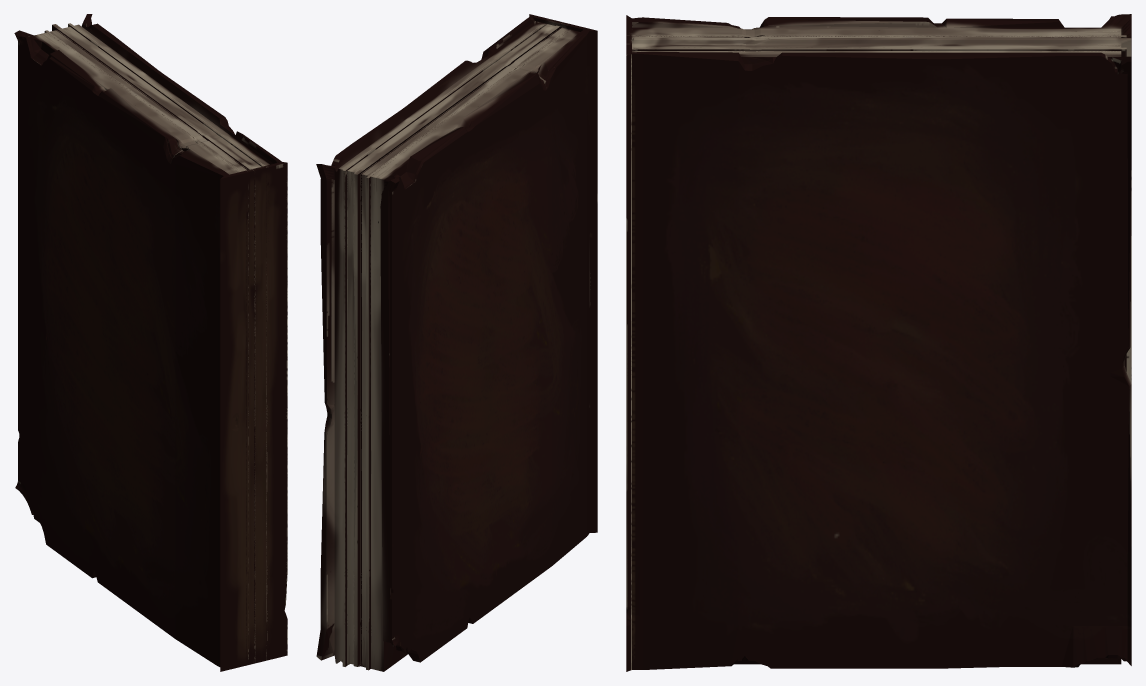
Rendered from ThinBurnedBook.dae.
3 views of the same model, side by side, from view 1: azimuth 30°, elevation 25°; view 2: azimuth 150°, elevation 25°; view 3: azimuth 270°, elevation 25° (orthographic). The views are drawn at different scales.
Visible parts, largest first — view 1: Book; view 2: Book; view 3: Book.
Part boxes in pixels (x1,y1,x2,y2): Book: (14,14,287,671); Book: (316,14,597,671); Book: (626,14,1131,671).
Size of the model in its own units: 43.99 by 266 by 197.
